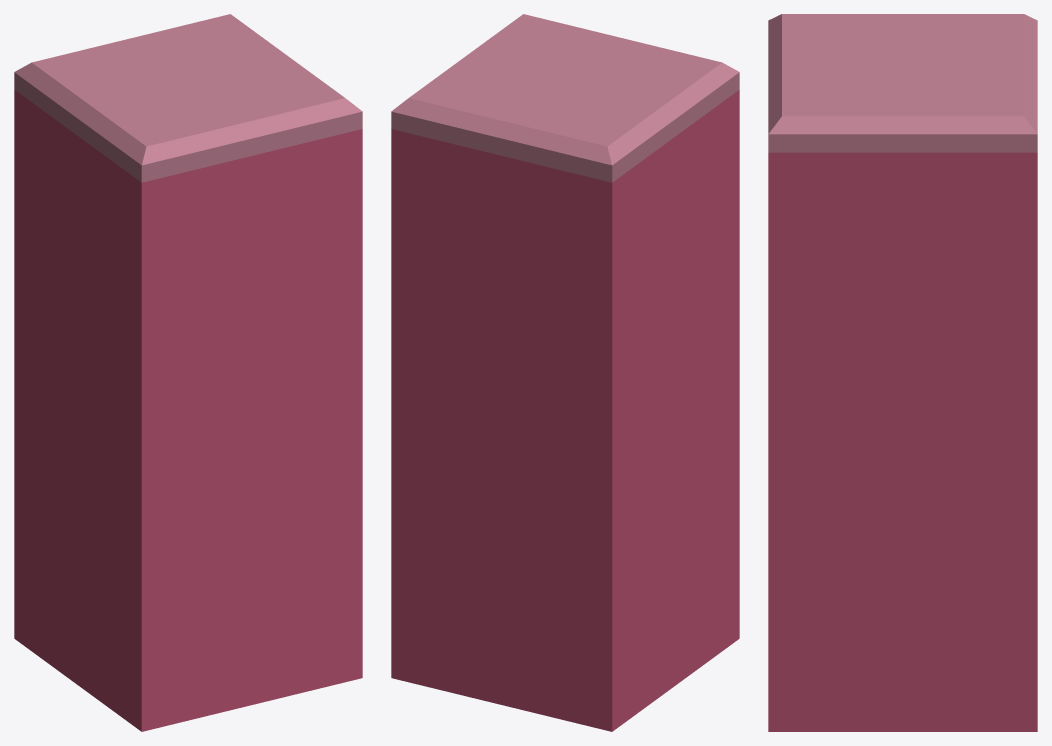
The model's file is Tile1.fbx.
3 renders of one model, left to right at view 1: azimuth 30°, elevation 25°; view 2: azimuth 150°, elevation 25°; view 3: azimuth 270°, elevation 25°, orthographic. The views are drawn at different scales.
Visible parts, largest first — view 1: Cube; view 2: Cube; view 3: Cube.
Boxes of the visible parts, x1,y1,x2,y2 form: Cube: [14, 14, 362, 731]; Cube: [391, 14, 739, 731]; Cube: [768, 14, 1037, 731].
Bounding box in the file's own units: 2 × 5 × 2.
